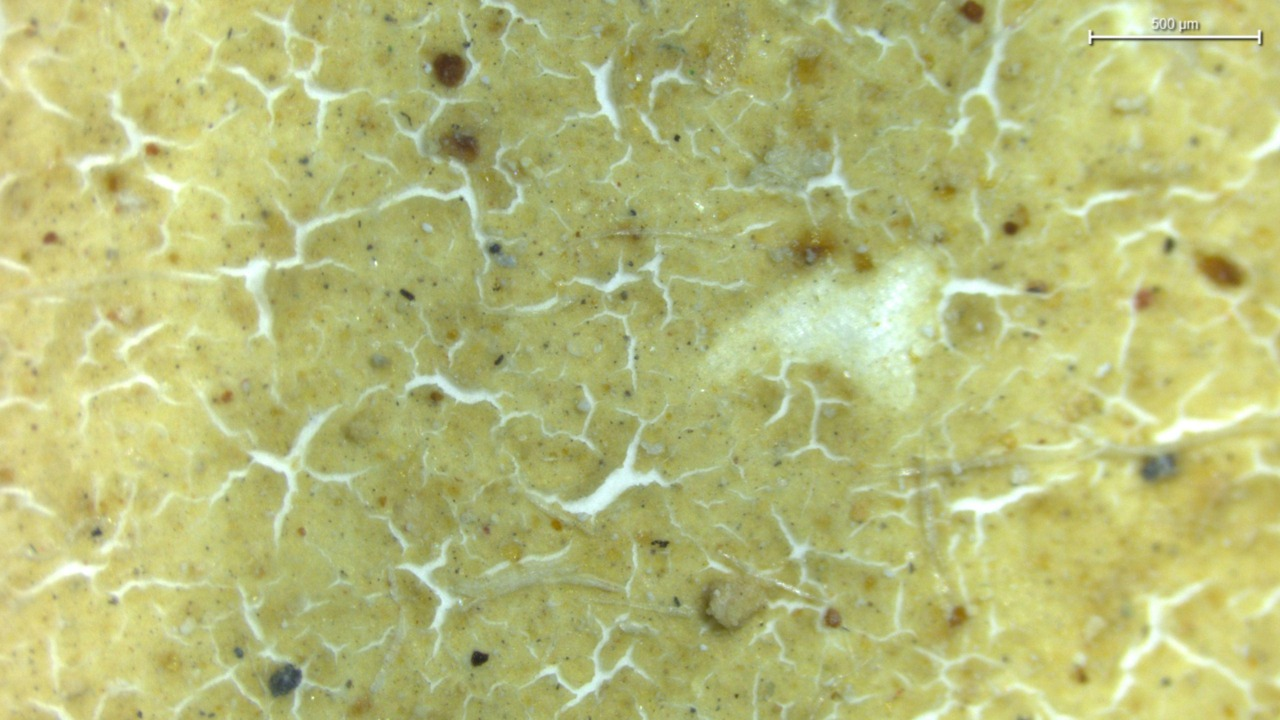microplastic_fragment: (703, 575, 768, 632)
